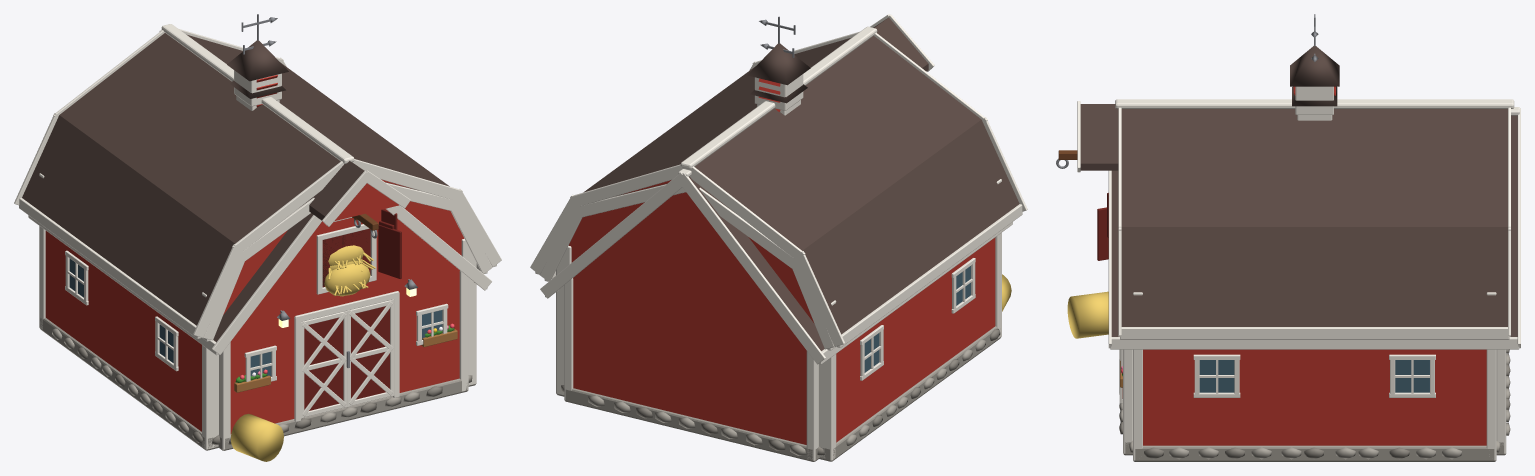
Rendered from laaver.glb.
3 views of the same model, side by side, from view 1: azimuth 30°, elevation 25°; view 2: azimuth 150°, elevation 25°; view 3: azimuth 270°, elevation 25° (orthographic). The views are drawn at different scales.
Parts seen in each view (by area): view 1: laave_c, laave_b, laave_a; view 2: laave_c, laave_b, laave_a; view 3: laave_c, laave_b, laave_a.
Part boxes in pixels (bbox=[...]): laave_c: bbox=[14, 14, 501, 461]; laave_b: bbox=[28, 29, 491, 450]; laave_a: bbox=[202, 38, 492, 448]; laave_c: bbox=[530, 14, 1027, 461]; laave_b: bbox=[540, 169, 1012, 461]; laave_a: bbox=[540, 41, 835, 458]; laave_c: bbox=[1056, 14, 1514, 461]; laave_b: bbox=[1097, 107, 1520, 455]; laave_a: bbox=[1120, 44, 1509, 339].
Bounding box in the file's own units: 9.88 × 10.53 × 11.88.
